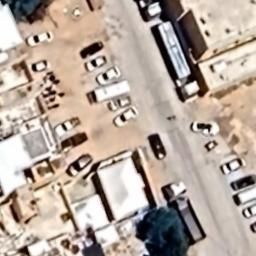SUV: (60, 152, 94, 180)
pickup: (53, 116, 82, 138)
sedan: (22, 26, 58, 50), (218, 153, 250, 179), (112, 105, 141, 130), (96, 64, 122, 86), (82, 52, 108, 72), (26, 60, 52, 74), (240, 201, 256, 220)
truck: (164, 178, 212, 244)
unknown: (146, 130, 166, 162), (74, 38, 105, 58)
